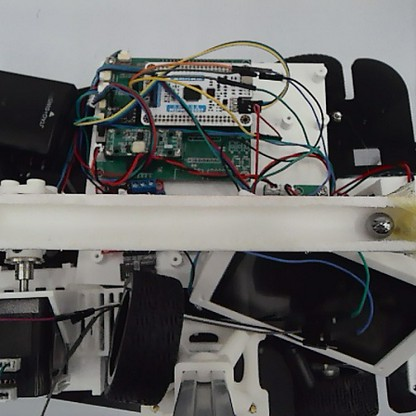ironball: (364, 209, 393, 239)
